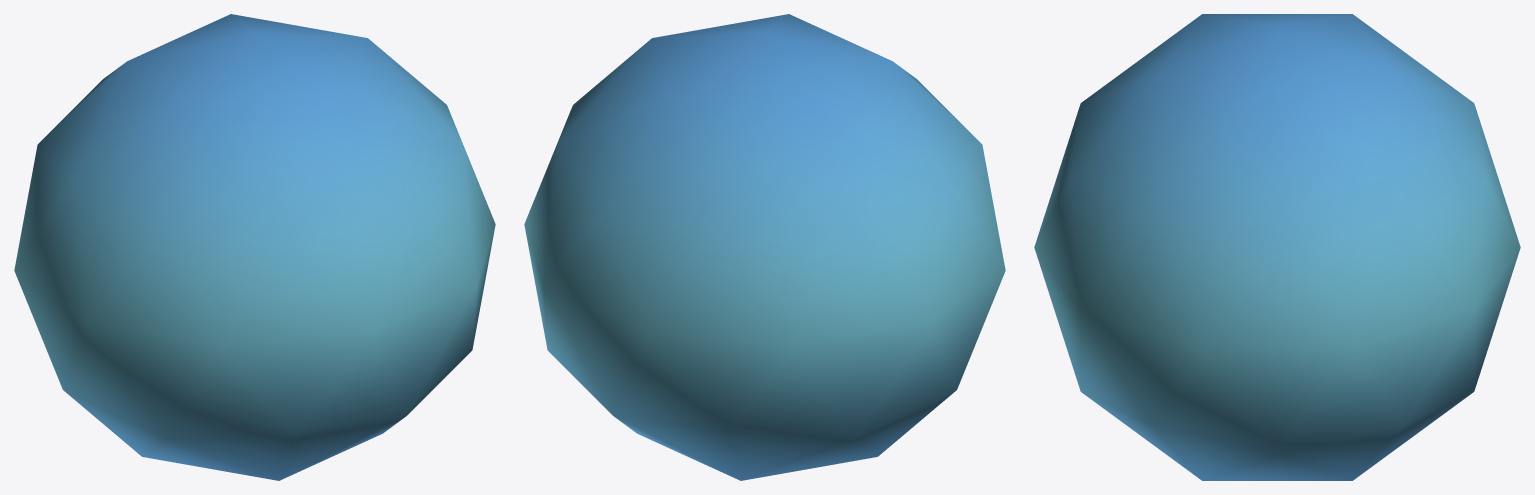
Rendered from Ovulo.glb.
The picture shows the model from 3 angles, left to right: view 1: azimuth 30°, elevation 25°; view 2: azimuth 150°, elevation 25°; view 3: azimuth 270°, elevation 25°; orthographic projection. The views are drawn at different scales.
Visible parts, largest first — view 1: OvuloMembrana; view 2: OvuloMembrana; view 3: OvuloMembrana.
Part boxes in pixels (box(x1,y1,x2,y2)): OvuloMembrana: box(14, 14, 495, 480); OvuloMembrana: box(524, 14, 1005, 480); OvuloMembrana: box(1034, 14, 1520, 480).
Bounding box in the file's own units: 0.2 × 0.2 × 0.2.
2 materials, 2 textured.
